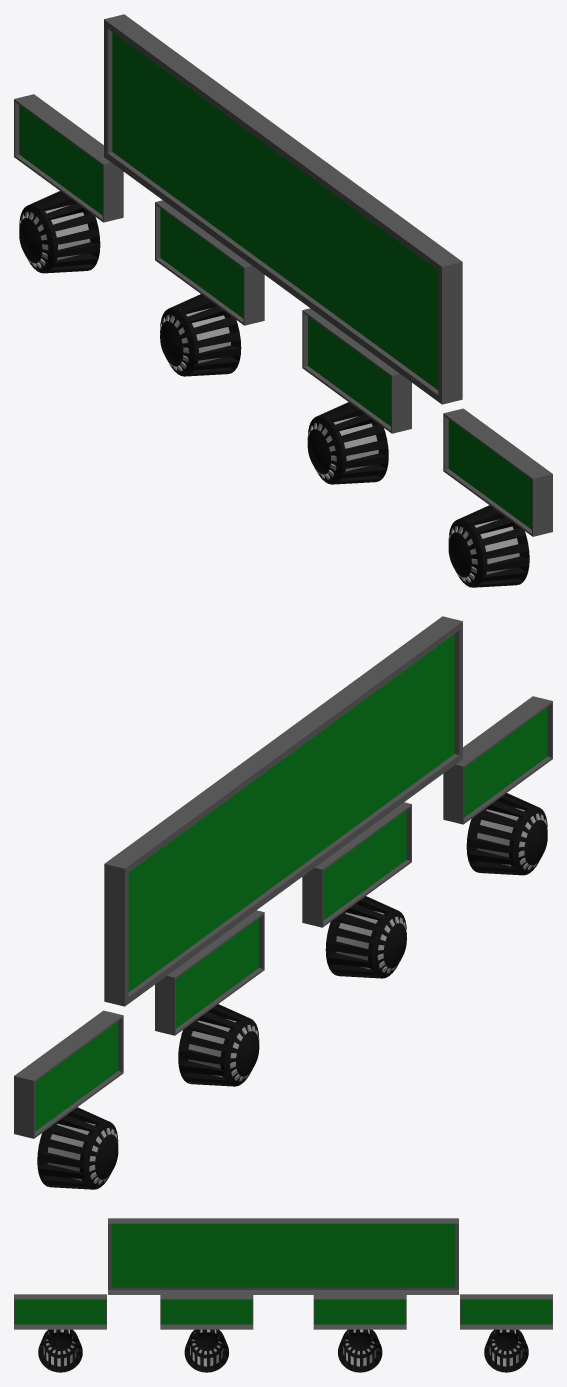
The model's file is DialsAndScreens.fbx.
3 renders of one model, top to bottom at view 1: azimuth 30°, elevation 25°; view 2: azimuth 150°, elevation 25°; view 3: azimuth 270°, elevation 25°, orthographic. The views are drawn at different scales.
Parts seen in each view (by area): view 1: SSEGDisplay, smallSSEG4, smallSSEG1, smallSSEG3, smallSSEG2, Dial4, Dial3, Dial2, Dial1; view 2: SSEGDisplay, smallSSEG1, smallSSEG4, smallSSEG2, smallSSEG3, Dial1, Dial2, Dial3, Dial4; view 3: SSEGDisplay, smallSSEG1, smallSSEG4, smallSSEG3, smallSSEG2, Dial1, Dial4, Dial2, Dial3.
Part boxes in pixels (x1,y1,x2,y2): SSEGDisplay: [104, 14, 462, 404]; smallSSEG4: [443, 408, 552, 536]; smallSSEG1: [14, 94, 123, 222]; smallSSEG3: [302, 308, 411, 433]; smallSSEG2: [155, 200, 264, 325]; Dial4: [448, 505, 529, 587]; Dial3: [307, 402, 388, 484]; Dial2: [160, 294, 241, 376]; Dial1: [19, 191, 100, 273]; SSEGDisplay: [104, 616, 462, 1006]; smallSSEG1: [14, 1010, 123, 1138]; smallSSEG4: [443, 696, 552, 824]; smallSSEG2: [155, 910, 264, 1035]; smallSSEG3: [302, 802, 411, 927]; Dial1: [37, 1107, 118, 1189]; Dial2: [178, 1004, 259, 1086]; Dial3: [325, 896, 406, 978]; Dial4: [466, 793, 547, 875]; SSEGDisplay: [108, 1218, 458, 1294]; smallSSEG1: [460, 1294, 552, 1329]; smallSSEG4: [14, 1294, 106, 1329]; smallSSEG3: [160, 1295, 253, 1329]; smallSSEG2: [313, 1295, 406, 1329]; Dial1: [484, 1329, 528, 1372]; Dial4: [38, 1329, 82, 1372]; Dial2: [338, 1329, 382, 1372]; Dial3: [184, 1329, 228, 1372].
Size of the model in its own units: 4.55 by 23.6 by 77.35.
